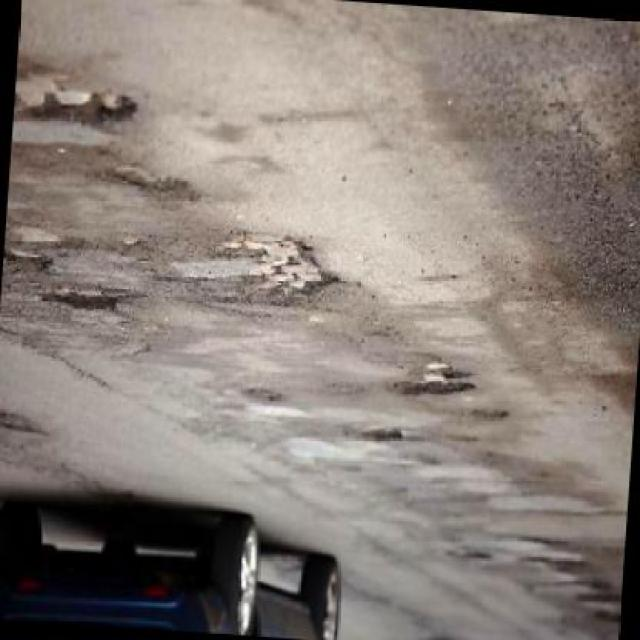pothole1: (213, 223, 344, 306), (11, 72, 144, 146), (386, 351, 477, 403), (3, 220, 66, 274), (46, 284, 126, 319), (0, 405, 48, 443), (356, 426, 406, 446)
